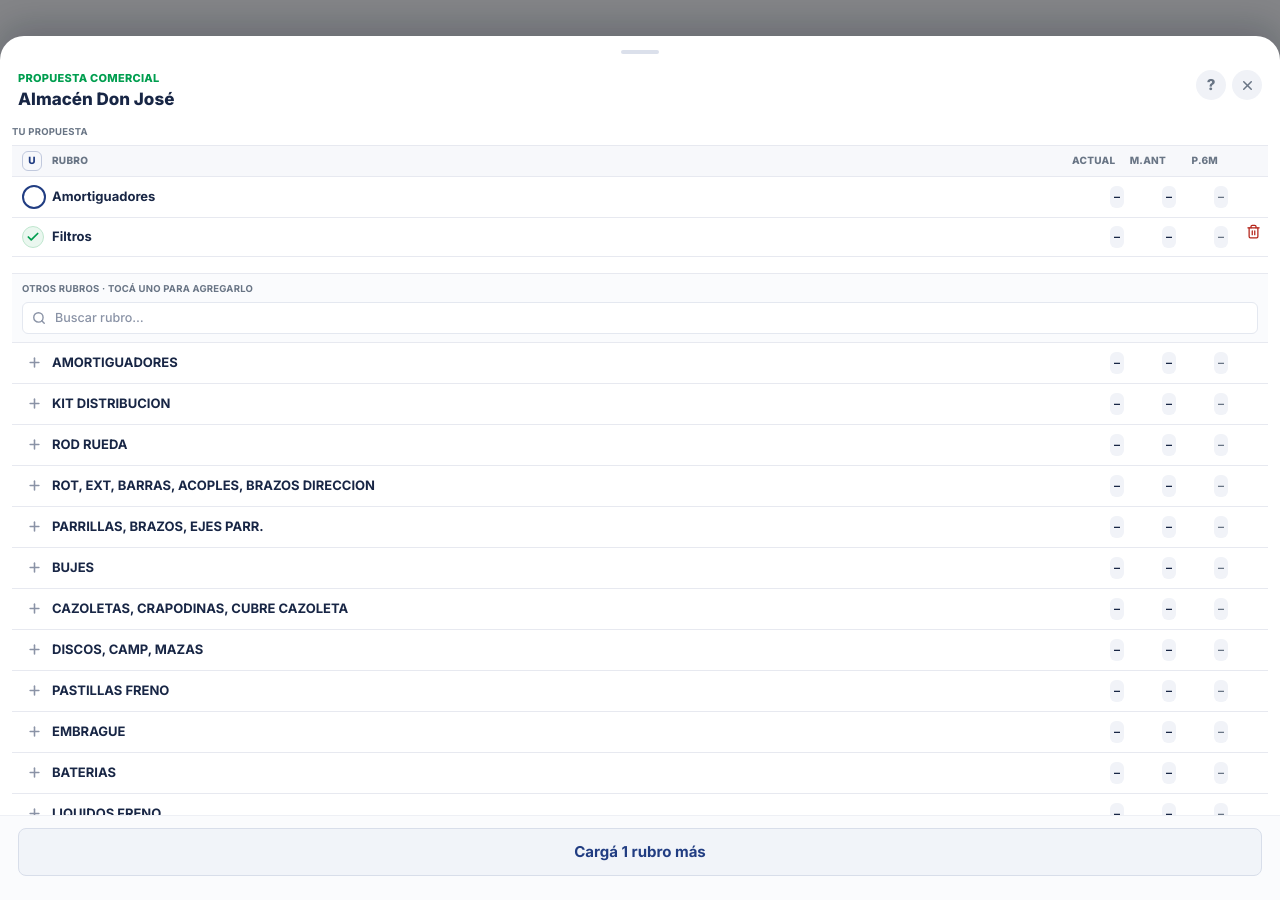
Test case: el botón Resolución abre el wizard de resolución
Click the button with aria-label "Resolución de Amortiguadores" at (104, 196), box [12,177,1238,217]
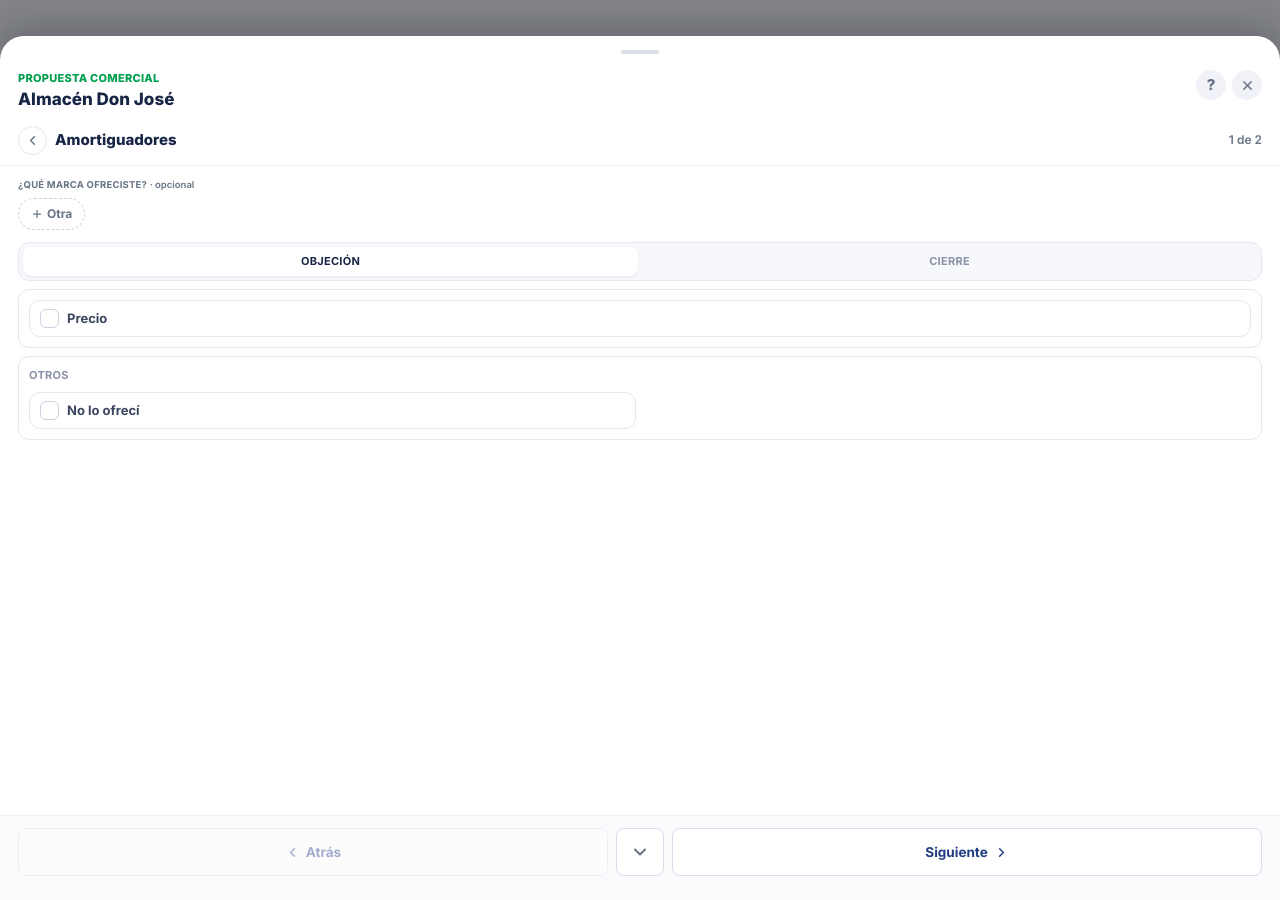
Now the text "1 de 2" is shown, box [1229,131,1262,149]
